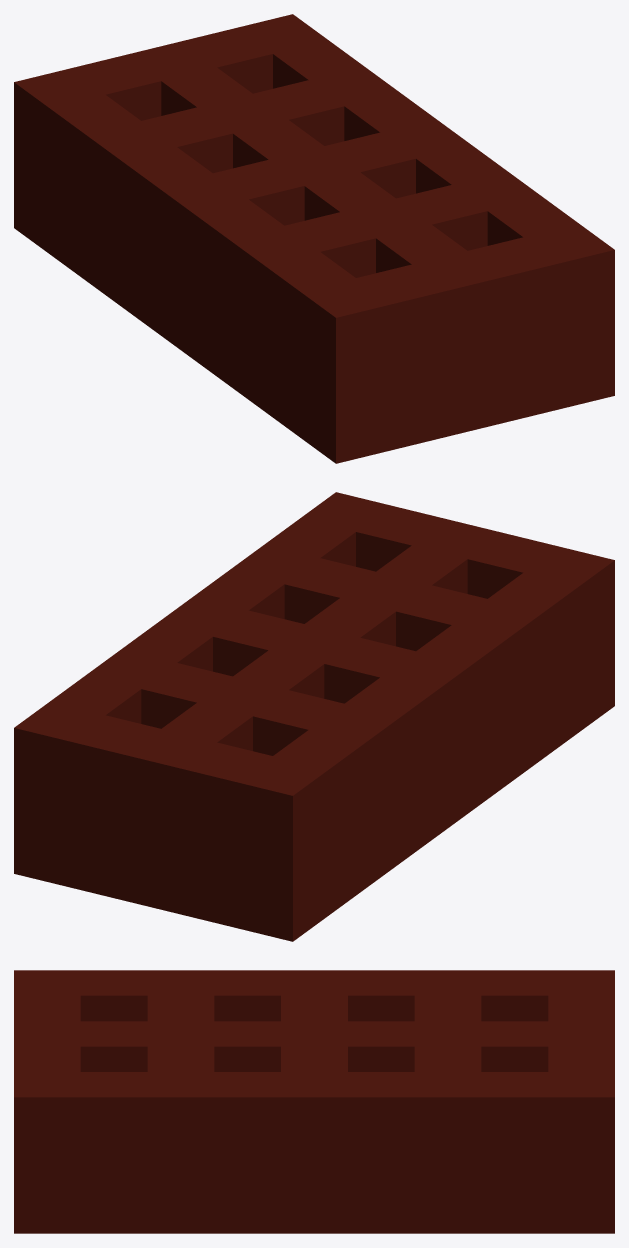
The model's file is Brick1.FBX.
The picture shows the model from 3 angles, top to bottom: view 1: azimuth 30°, elevation 25°; view 2: azimuth 150°, elevation 25°; view 3: azimuth 270°, elevation 25°; orthographic projection. The views are drawn at different scales.
Parts seen in each view (by area): view 1: Box001; view 2: Box001; view 3: Box001.
Part boxes in pixels (x1,y1,x2,y2): Box001: (14, 14, 614, 463); Box001: (14, 492, 614, 941); Box001: (14, 970, 614, 1233).
Bounding box in the file's own units: 19.69 × 9.84 × 39.37.
